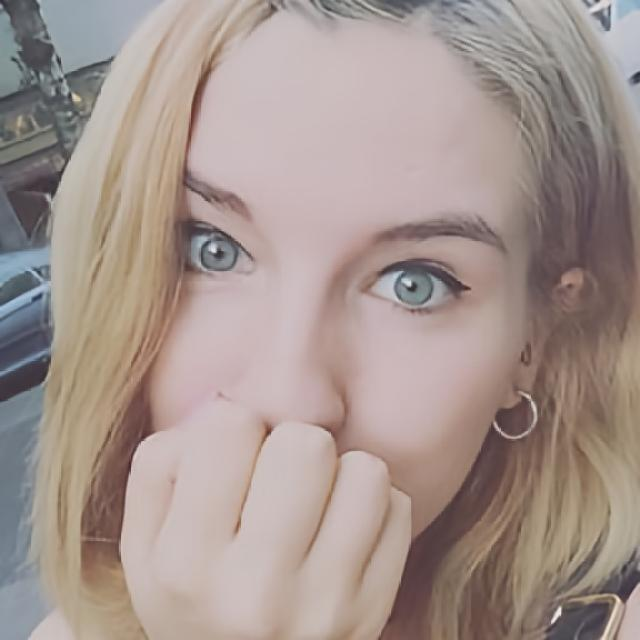surprise: (144, 4, 530, 572)
